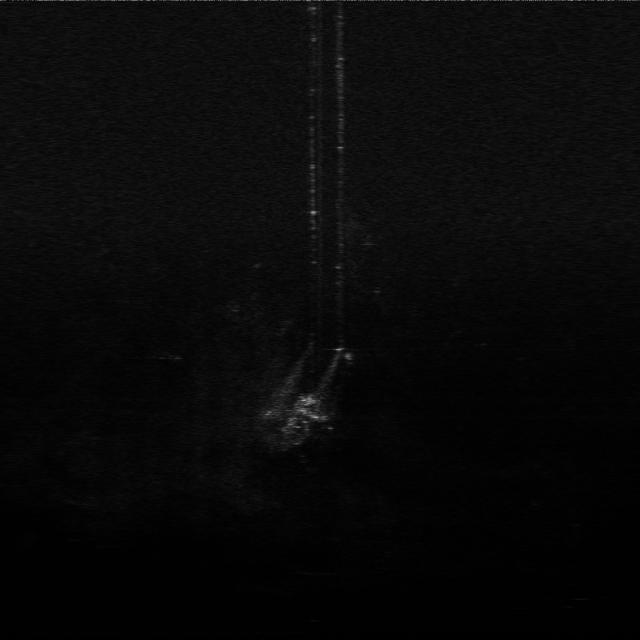rov: (296, 394, 316, 409)
